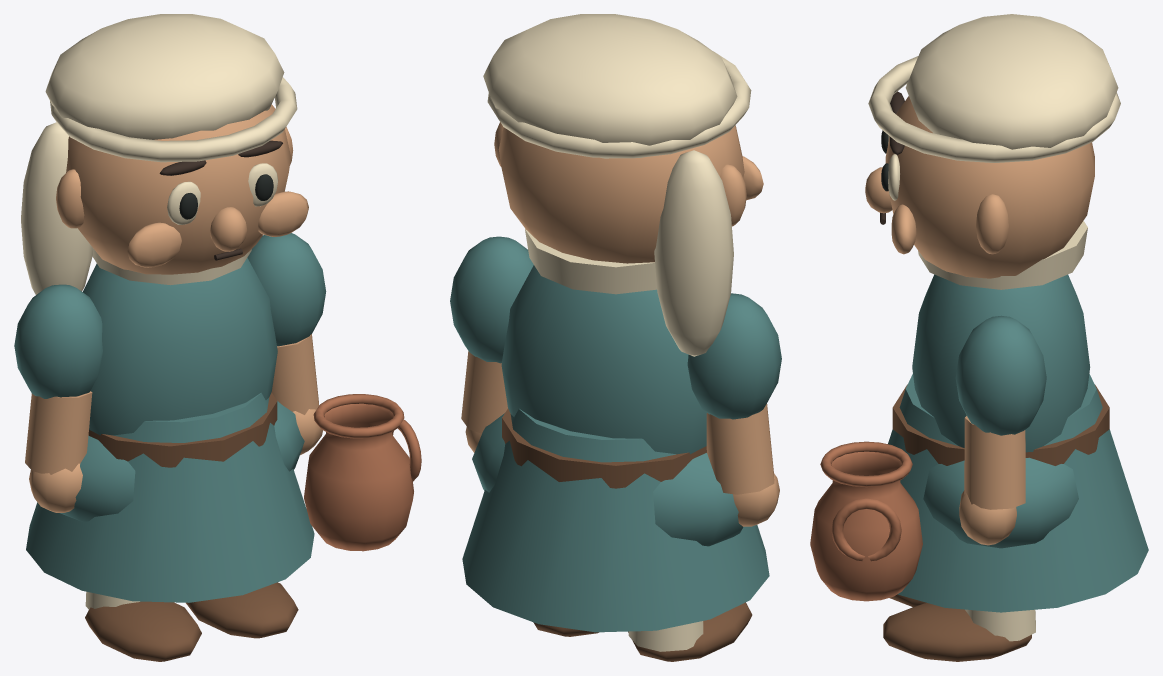
The model's file is character_nura.glb.
3 renders of one model, left to right at view 1: azimuth 30°, elevation 25°; view 2: azimuth 150°, elevation 25°; view 3: azimuth 270°, elevation 25°, orthographic. The views are drawn at different scales.
Parts seen in each view (by area): view 1: batch_nura_0, batch_nura_1, batch_nura_2, batch_jar_0, batch_arm_left_0, batch_arm_left_1, batch_arm_right_0, batch_leg_left_1, batch_leg_right_1, batch_nura_5, batch_arm_right_1, batch_nura_4 (+1 smaller); view 2: batch_nura_0, batch_nura_1, batch_nura_2, batch_arm_left_0, batch_arm_right_0, batch_arm_left_1, batch_nura_5, batch_arm_right_1, batch_leg_left_1, batch_leg_left_0; view 3: batch_nura_0, batch_nura_1, batch_nura_2, batch_jar_0, batch_arm_right_0, batch_arm_right_1, batch_leg_right_1, batch_nura_5, batch_leg_right_0.
Part boxes in pixels (x1,y1,x2,y2): batch_nura_0: (26,258,314,602); batch_nura_1: (21,14,297,294); batch_nura_2: (56,104,308,274); batch_jar_0: (304,394,421,551); batch_arm_left_0: (14,284,102,398); batch_arm_left_1: (25,391,92,512); batch_arm_right_0: (247,233,326,346); batch_leg_left_1: (85,601,201,661); batch_leg_right_1: (186,582,298,638); batch_nura_5: (88,392,277,467); batch_arm_right_1: (271,334,322,455); batch_nura_4: (159,140,282,260); batch_nura_0: (462,265,769,632); batch_nura_1: (483,14,751,356); batch_nura_2: (494,122,763,263); batch_arm_left_0: (687,293,781,419); batch_arm_right_0: (450,236,533,363); batch_arm_left_1: (706,404,779,526); batch_nura_5: (502,408,706,488); batch_arm_right_1: (461,351,507,452); batch_leg_left_1: (628,602,752,661); batch_leg_left_0: (628,621,703,651); batch_nura_0: (888,274,1148,612); batch_nura_1: (868,14,1120,289); batch_nura_2: (865,96,1094,278); batch_jar_0: (810,441,922,601); batch_arm_right_0: (955,315,1046,435); batch_arm_right_1: (959,416,1025,545); batch_leg_right_1: (883,603,1031,661); batch_nura_5: (892,384,1109,465); batch_leg_right_0: (965,609,1035,641).
Size of the model in its own units: 0.865 by 1.5 by 0.78.
